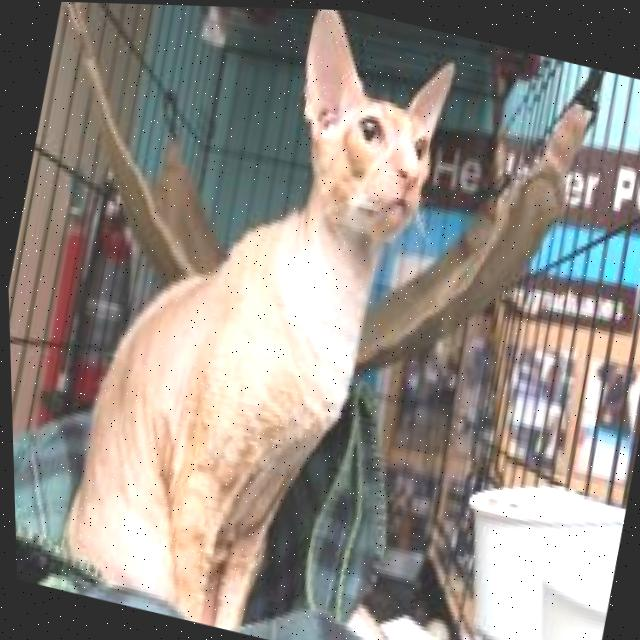Cornish Rex: (26, 1, 480, 640)
